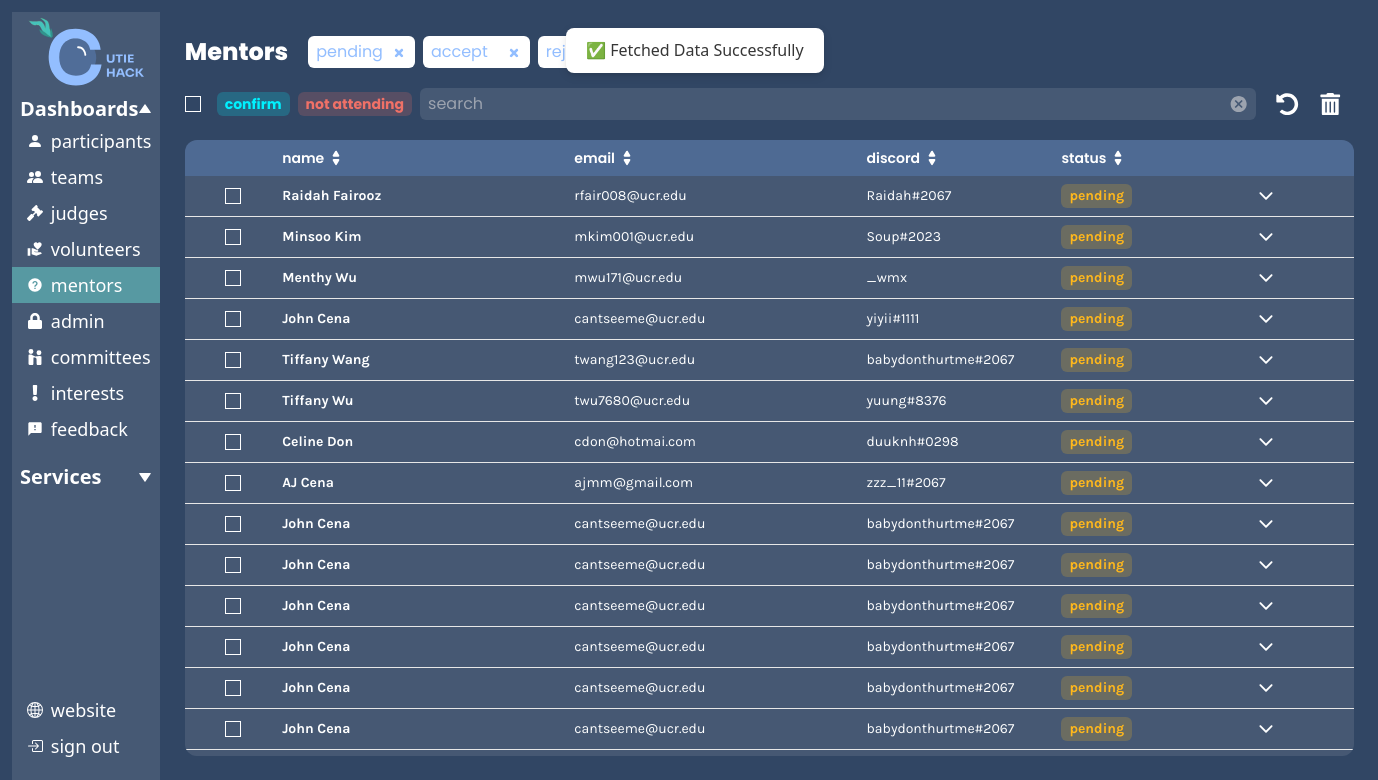
Test: Mentor Search › Search For Multiple Entries
Type "John Cena" into the field with test id "input-input" at (825, 104), box x1=420 y1=88 x2=1229 y2=120
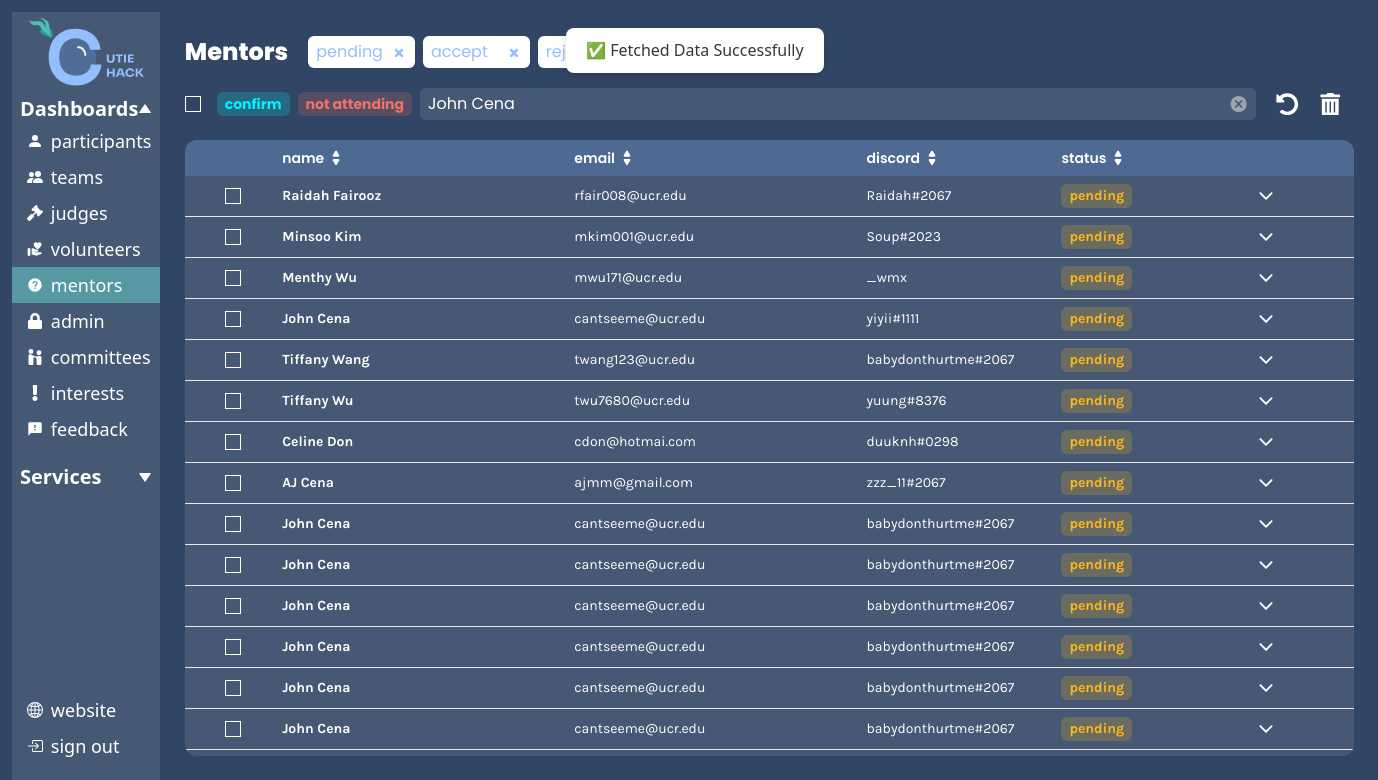
Submit the form, box x1=420 y1=84 x2=1256 y2=124
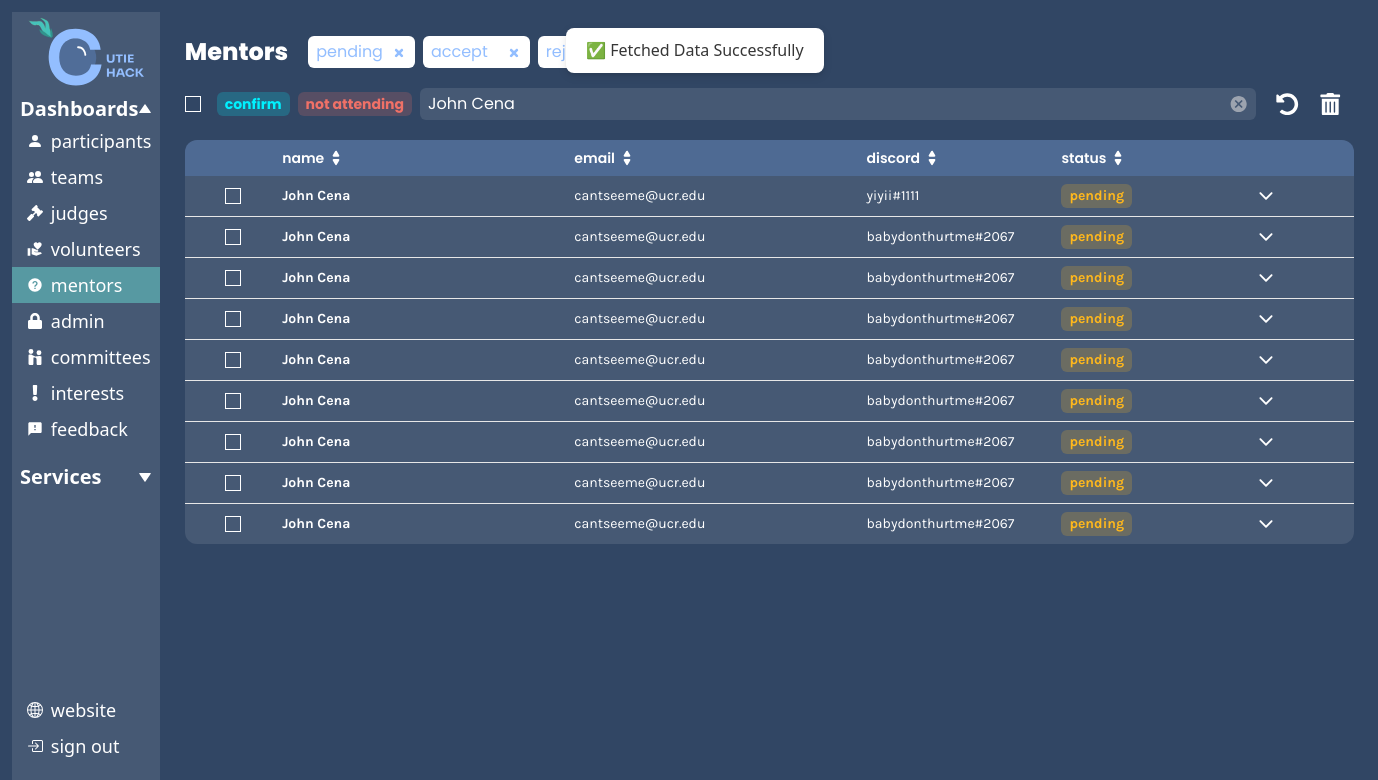
Now the element with test id "1" is gone
Now the element with test id "2" is gone
Now the element with test id "3" is gone
